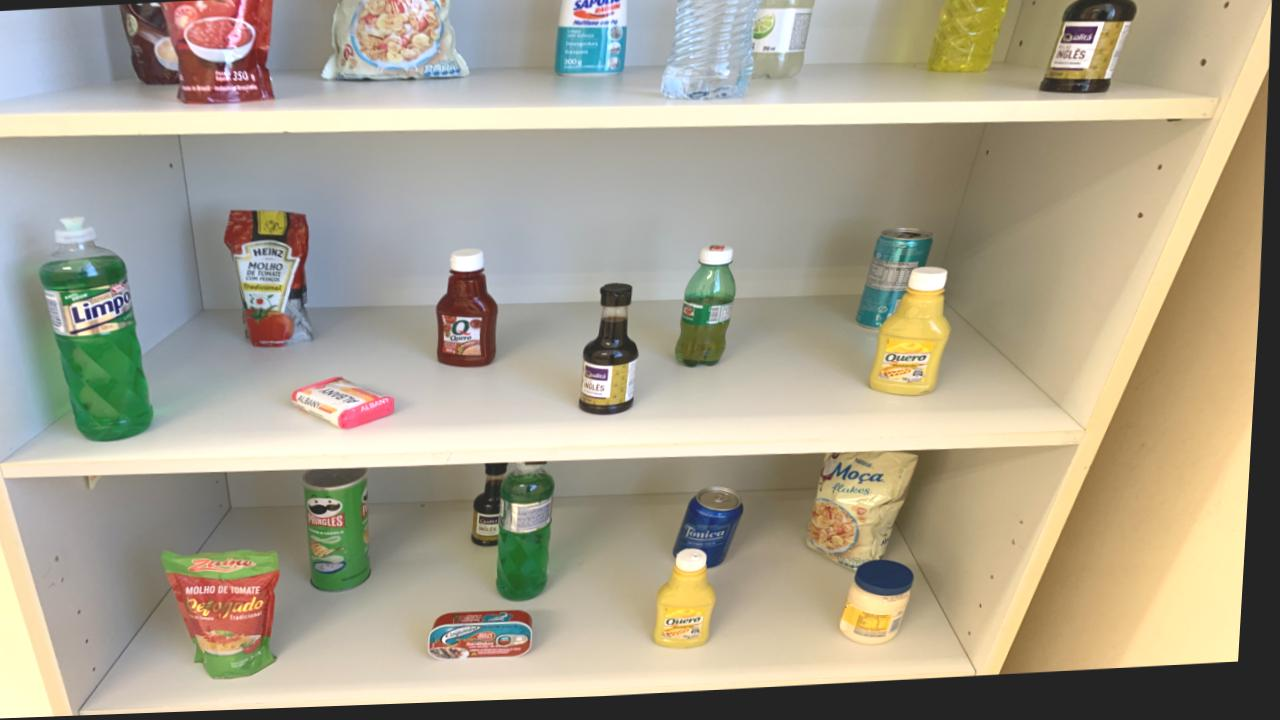Cleaner-Cleanup_Items: (556, 0, 628, 80)
Coffee-Pantry_Items: (121, 4, 181, 86)
Detergent-Cleanup_Items: (43, 219, 159, 442), (503, 466, 562, 606), (928, 0, 1013, 80)
English_Sauce-Pantry_Items: (1040, 0, 1137, 102), (584, 289, 643, 419), (477, 467, 515, 550)
Flakes-Snacks: (814, 459, 924, 577), (321, 0, 471, 83)
Guarana-Drinks: (680, 251, 740, 372)
Ketchup-Pantry_Items: (441, 253, 502, 371)
Mayonnaise-Pantry_Items: (847, 567, 921, 652)
Mustard-Pantry_Items: (874, 274, 956, 403), (662, 555, 723, 655)
Pringles-Snacks: (309, 471, 379, 594)
Soap-Cleanup_Items: (297, 380, 399, 431)
Soda-Drinks: (753, 0, 816, 85)
Tea-Drinks: (861, 235, 936, 337)
Tomato_Sauce-Pantry_Items: (170, 553, 287, 682), (226, 212, 316, 350), (163, 0, 276, 107)
Tonic-Drinks: (679, 492, 751, 573)
Tuna_Can-Pantry_Items: (437, 615, 540, 664)
Water_Bottle-Drinks: (663, 0, 763, 106)
